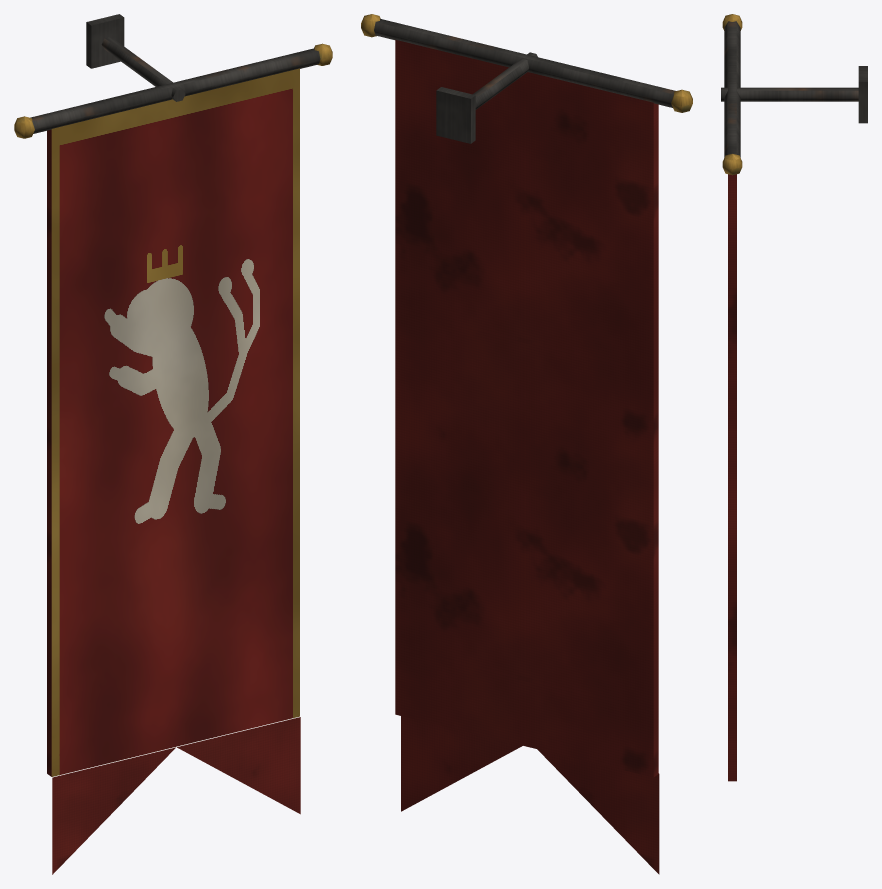
Rendered from banner_lion.gltf.
The picture shows the model from 3 angles, left to right: view 1: azimuth 30°, elevation 25°; view 2: azimuth 150°, elevation 25°; view 3: azimuth 270°, elevation 25°; orthographic projection. The views are drawn at different scales.
Visible parts, largest first — view 1: ANIM_banner; view 2: ANIM_banner; view 3: ANIM_banner.
Boxes of the visible parts, x1,y1,x2,y2 form: ANIM_banner: (14, 14, 332, 874); ANIM_banner: (361, 14, 692, 874); ANIM_banner: (721, 14, 867, 781).
Size of the model in its own units: 1.54 by 3.57 by 0.64.
Materials: 4 (4 with a texture image).
